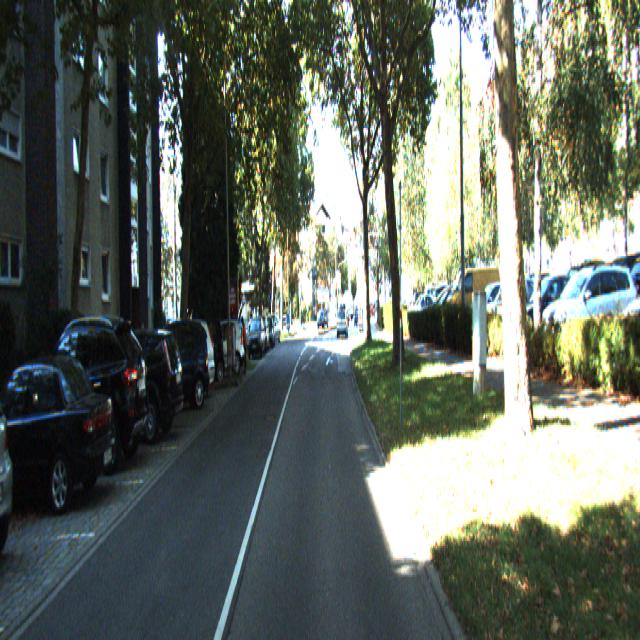Car: (0, 348, 117, 519), (27, 313, 149, 475), (80, 324, 184, 452), (132, 315, 209, 417), (198, 317, 245, 378), (188, 319, 224, 384), (247, 316, 265, 362)
